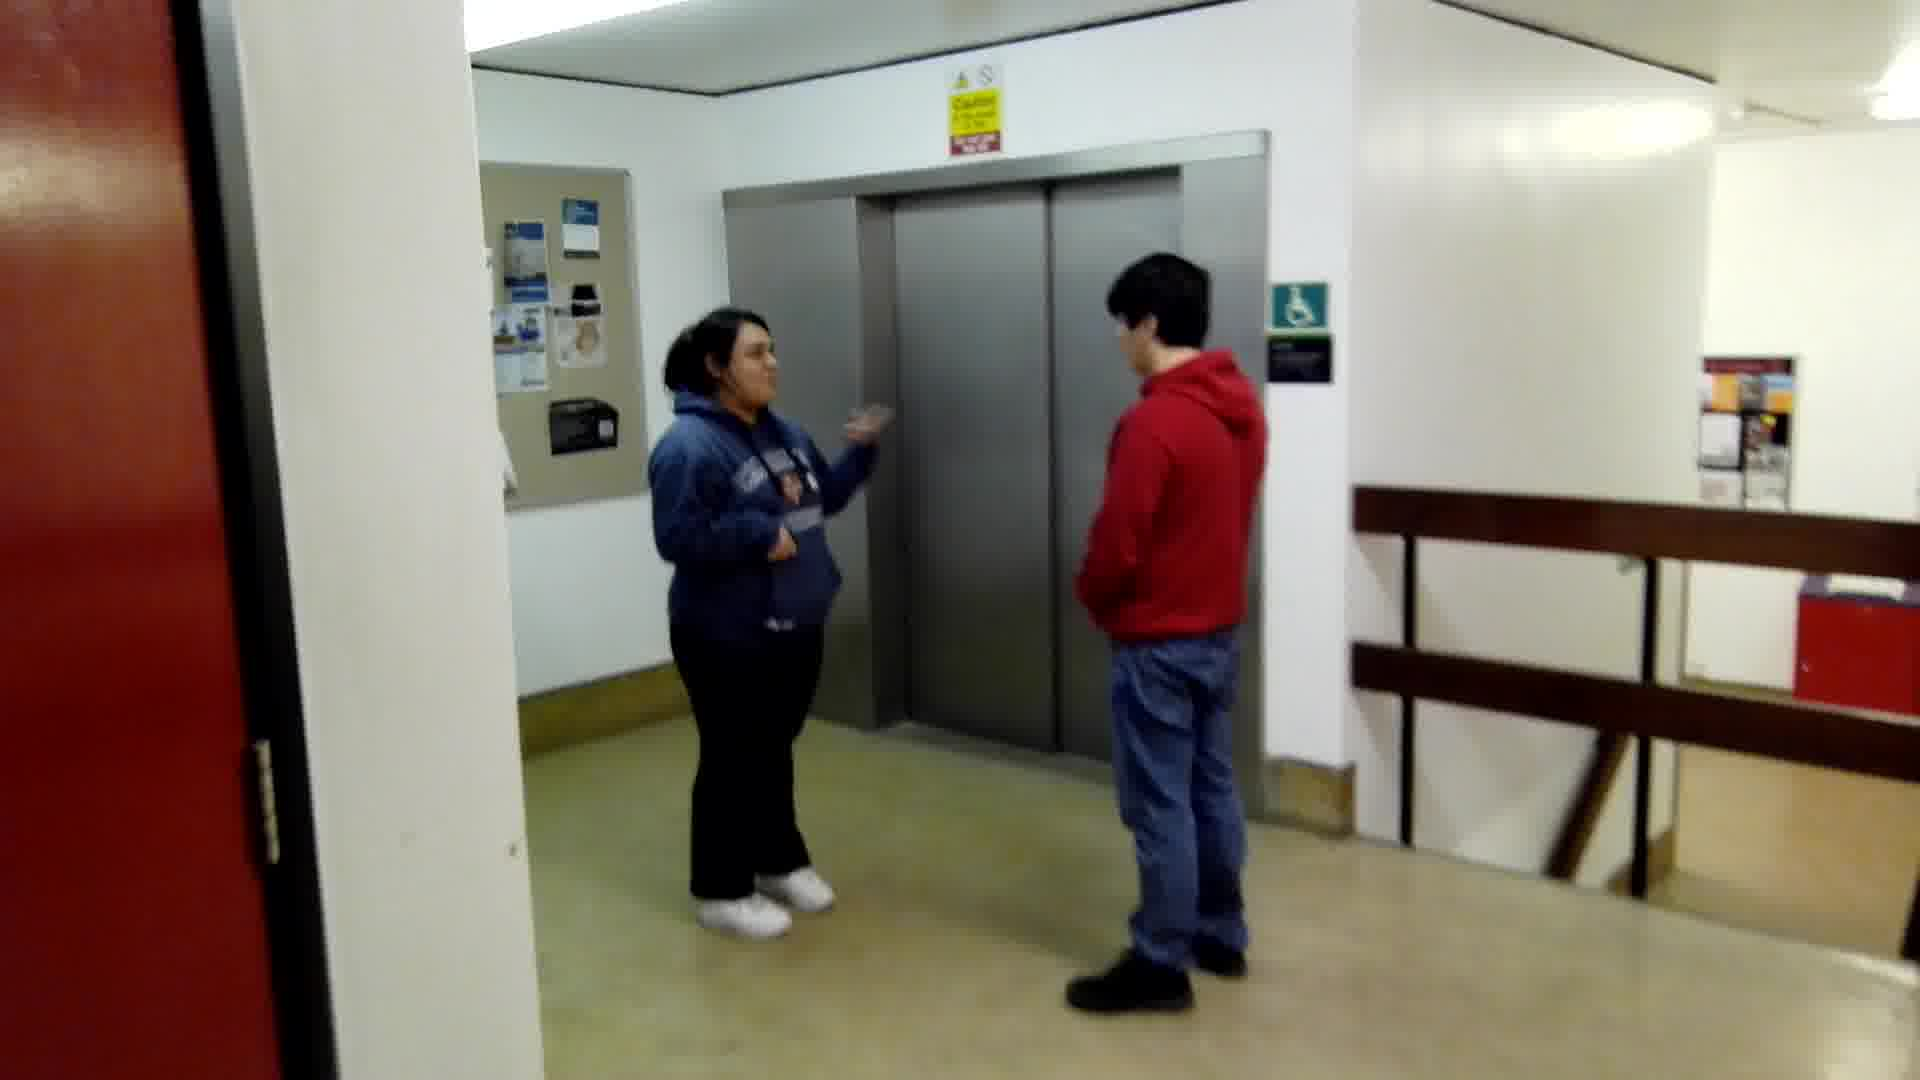Person: (1060, 249, 1294, 1026), (634, 305, 896, 938)
